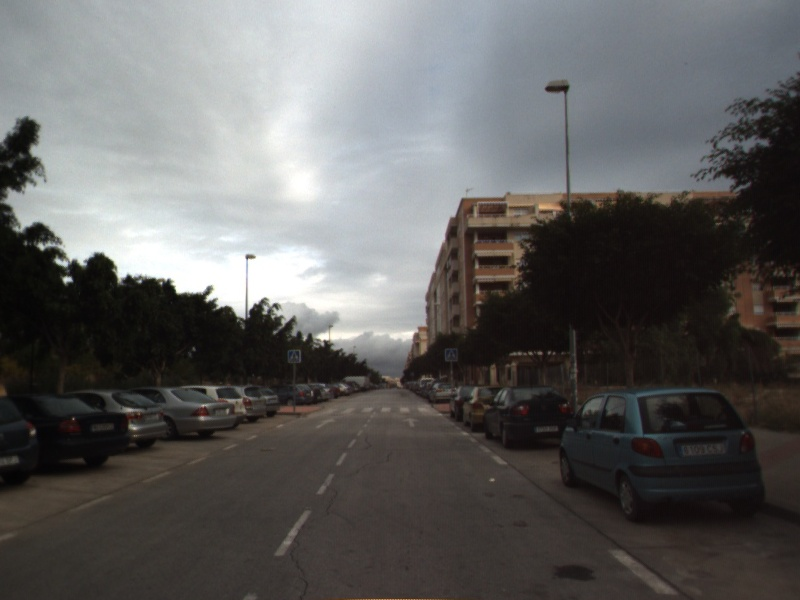STRAIGHT: (314, 416, 339, 430), (400, 415, 422, 429)
